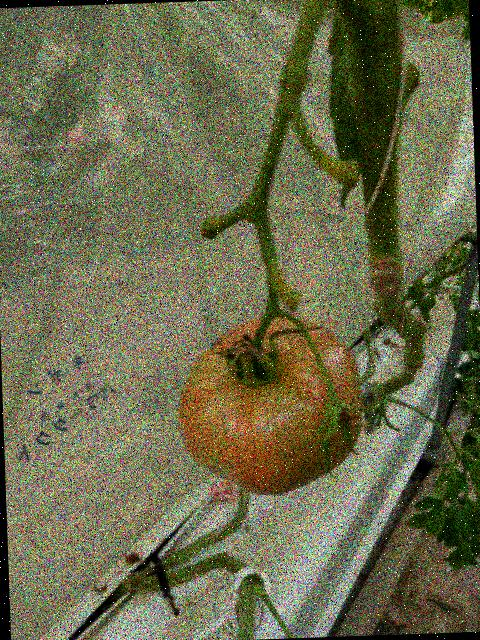b_half_ripened: (174, 311, 365, 499)
